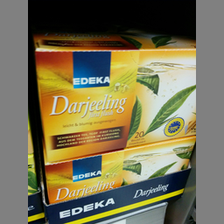tea: (32, 28, 195, 159), (44, 135, 195, 204)
